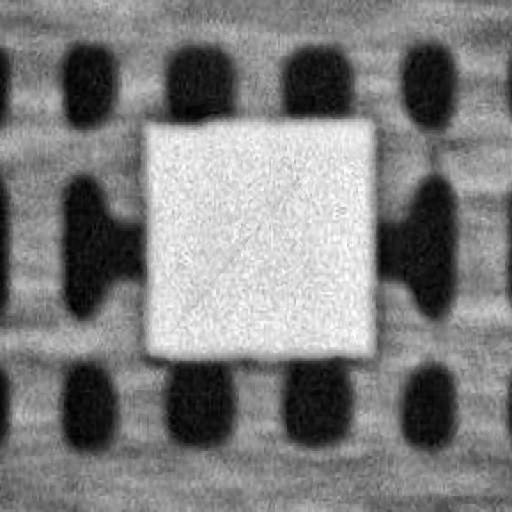DIE_CRACK: (252, 117, 443, 220)
